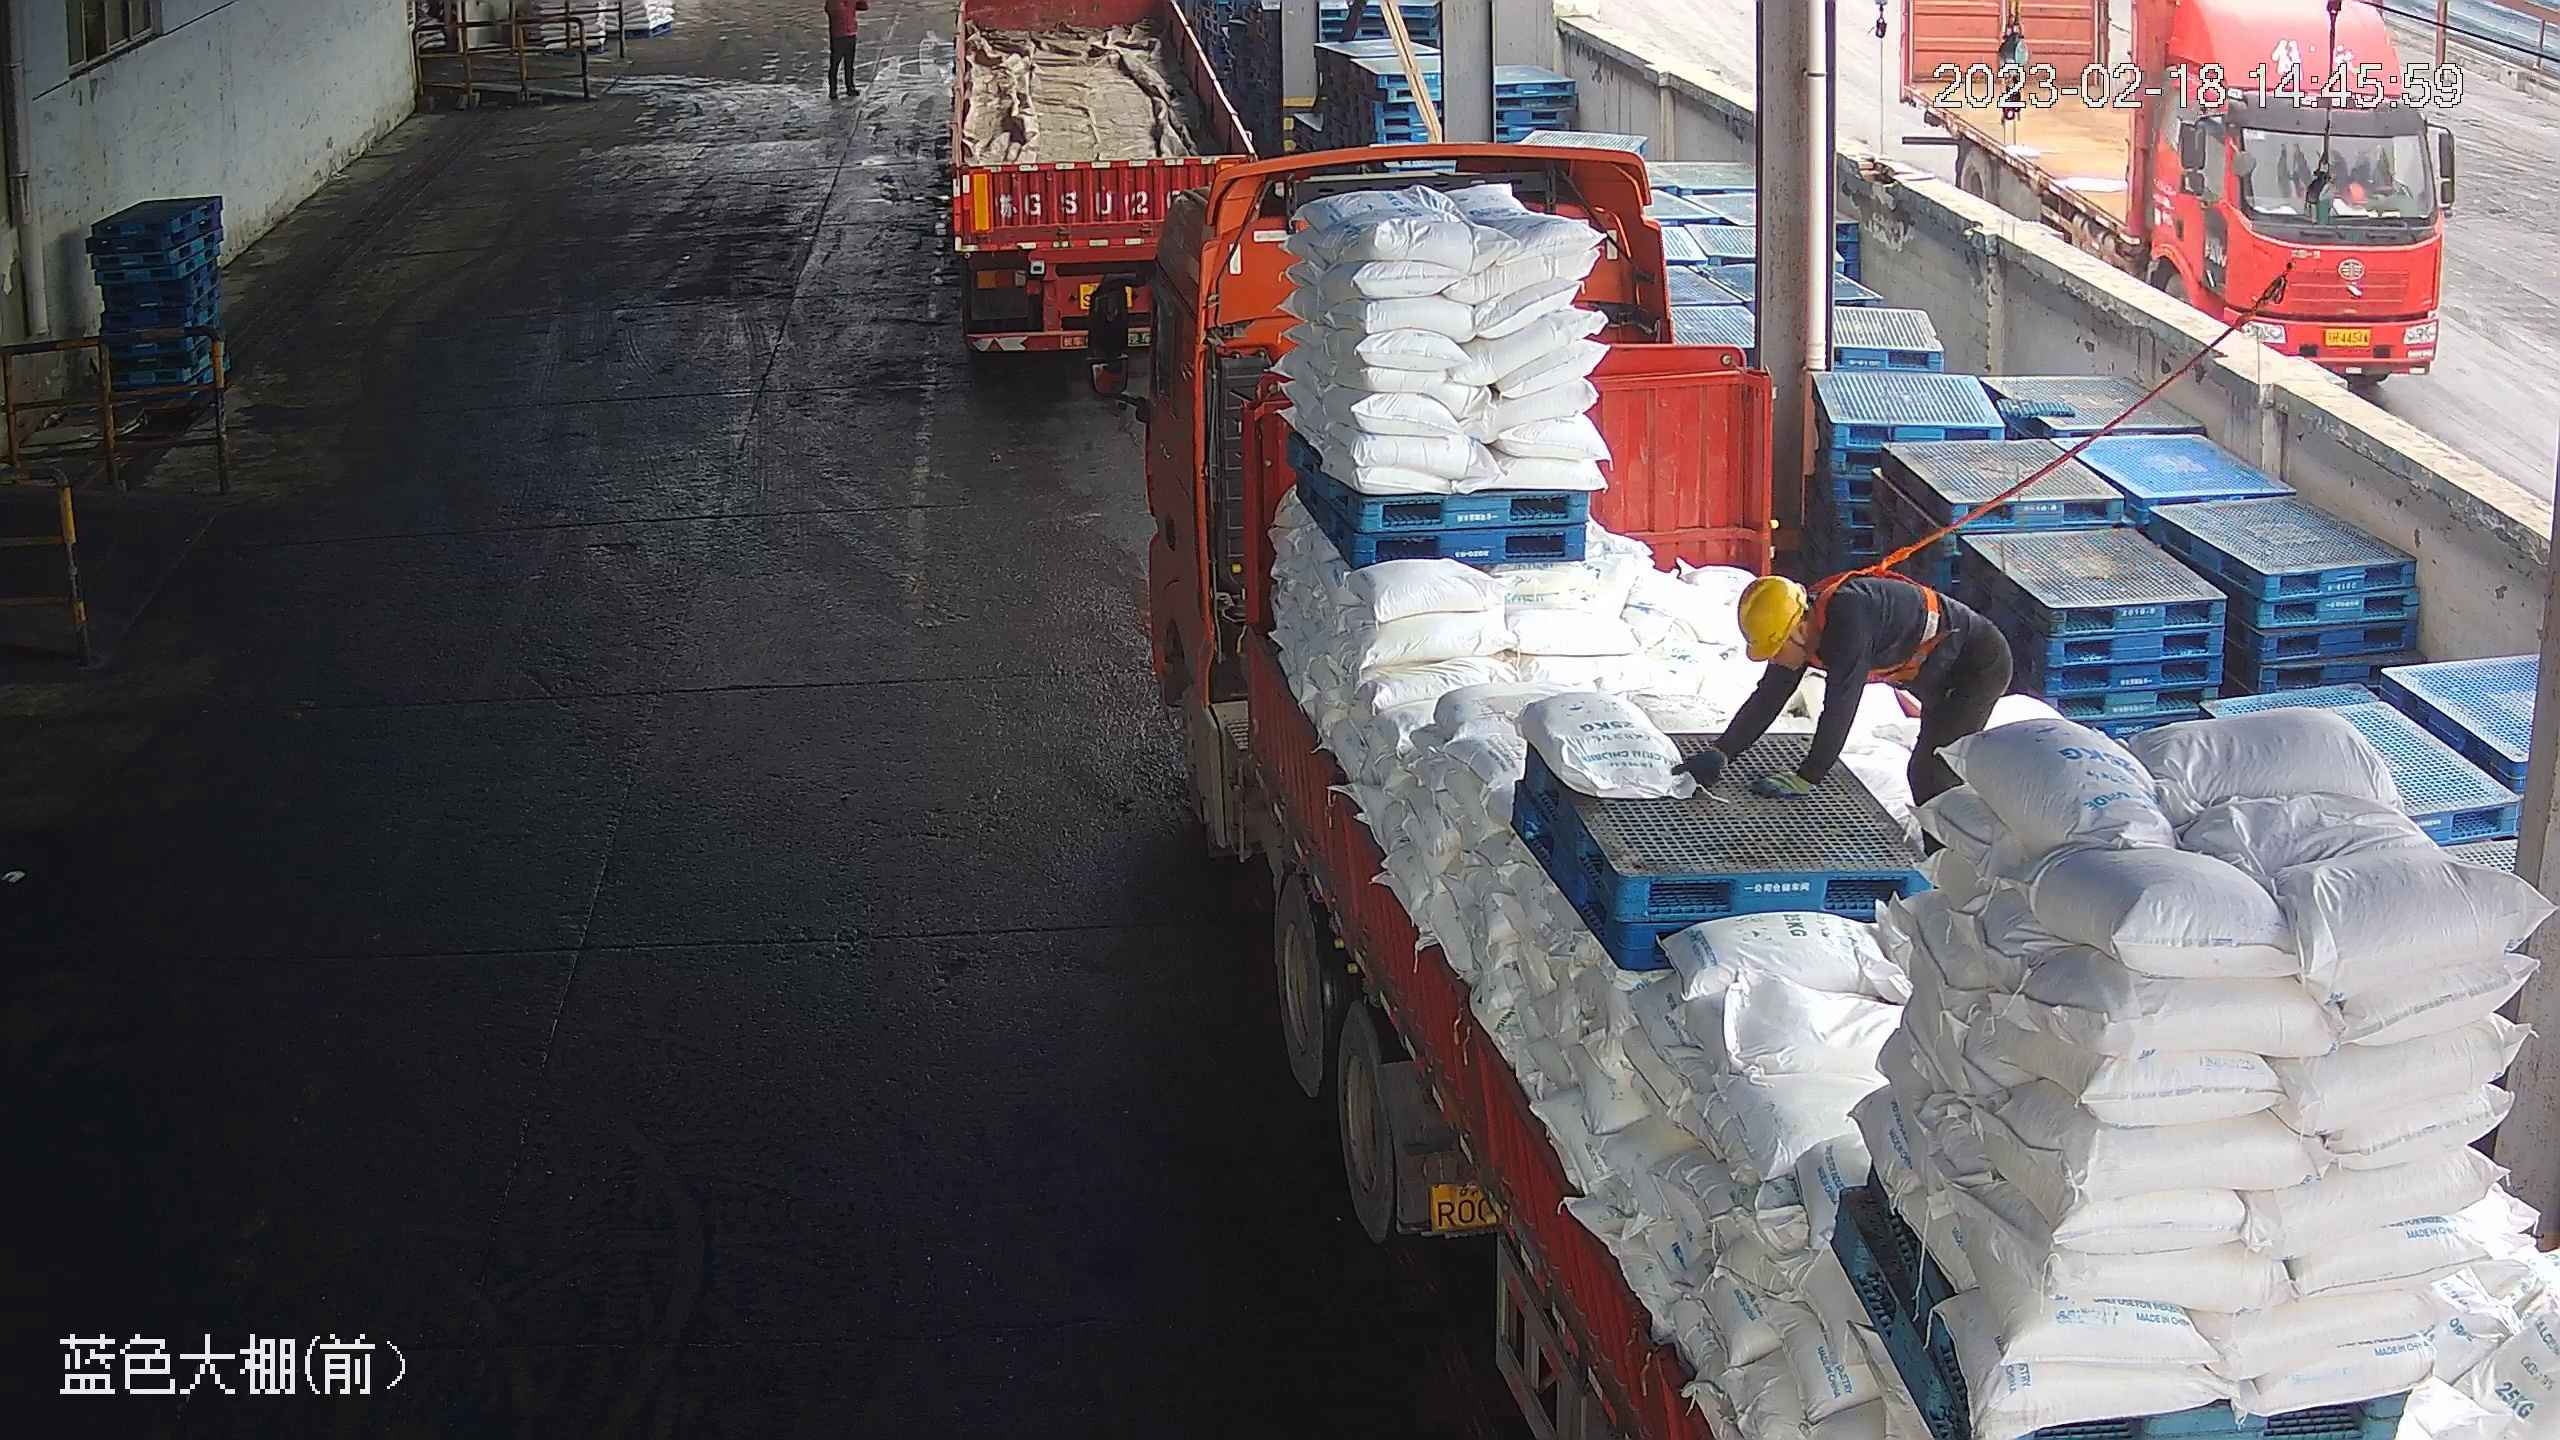belt: (1811, 556, 1946, 682)
helmet: (1734, 572, 1807, 664)
people: (1674, 568, 2016, 843)
truck: (1086, 139, 2557, 1440), (951, 1, 1258, 353)
